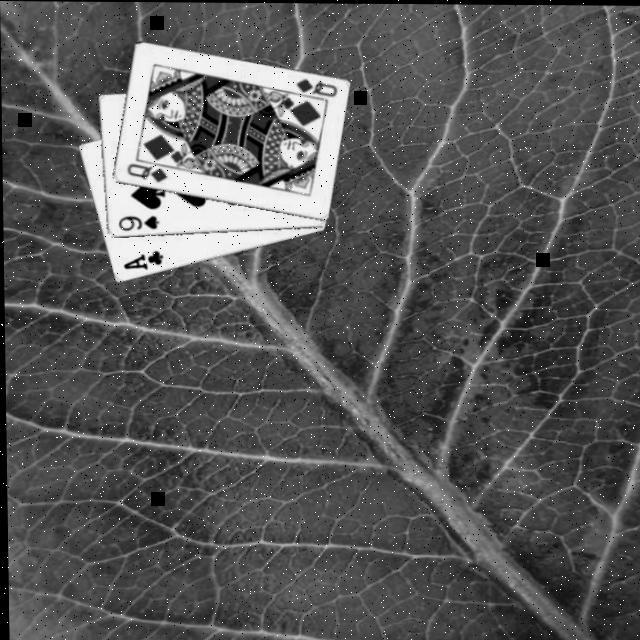9S: (112, 213, 160, 236)
AC: (118, 248, 164, 274)
QD: (290, 76, 338, 100), (122, 162, 168, 186)
